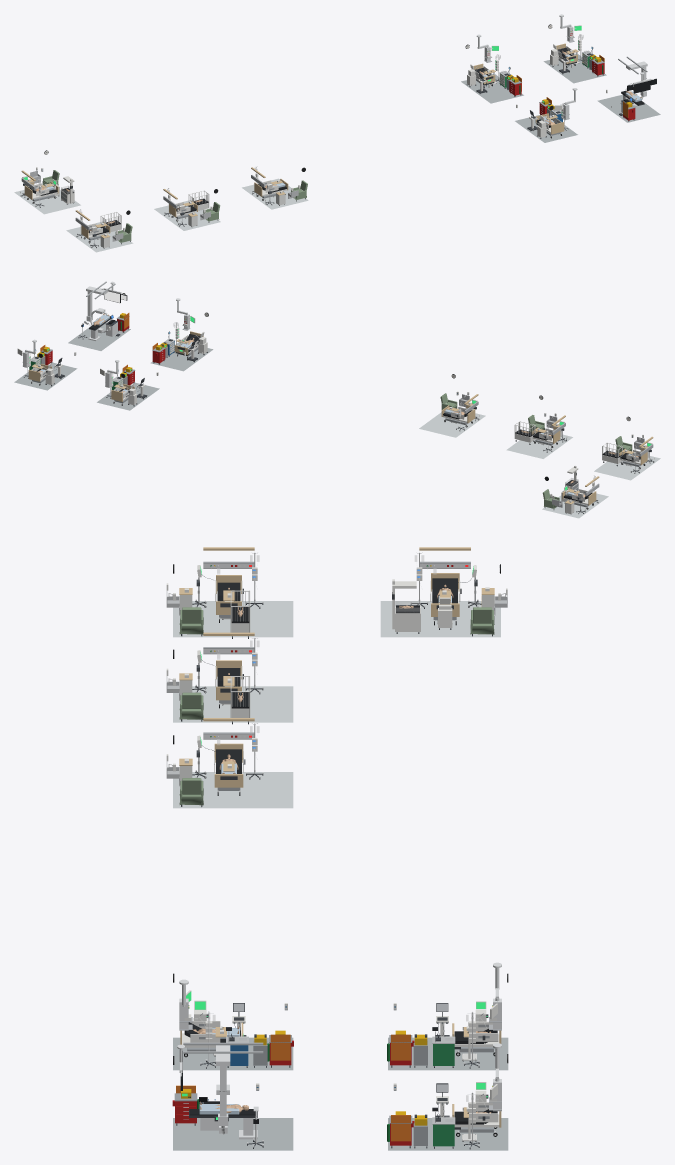
File: 19_n2_alta_fidelidad.glb
The picture shows the model from 3 angles, top to bottom: view 1: azimuth 30°, elevation 25°; view 2: azimuth 150°, elevation 25°; view 3: azimuth 270°, elevation 25°; orthographic projection. The views are drawn at different scales.
Parts seen in each view (by area): view 1: piso · Hemodinamia simulada · simulador endovascular, piso · UCI pediátrica 2, piso · UCI pediátrica 1, piso · Hospitalización · ginecoobstetricia, piso · Hospitalización · pediatría 1, piso · Hospitalización · pediatría 2, piso · Hospitalización · adultos, piso · UCI adultos, cama_hospitalaria, cama_hospitalaria.002; view 2: piso · Hospitalización · adultos, piso · Hospitalización · pediatría 1, piso · Hospitalización · pediatría 2, piso · Hemodinamia simulada · simulador endovascular, piso · UCI adultos, piso · UCI pediátrica 1, piso · UCI pediátrica 2, arco_c_techo, piso · Hospitalización · ginecoobstetricia, cama_hospitalaria.002, cama_hospitalaria; view 3: piso · Hospitalización · adultos, piso · Hemodinamia simulada · simulador endovascular, piso · Hospitalización · pediatría 2, piso · Hospitalización · pediatría 1, piso · Hospitalización · ginecoobstetricia, cama_uci_pediatrica (×2), cama_hospitalaria.001 (×2), piso · UCI pediátrica 2, piso · UCI pediátrica 1, piso · UCI adultos, arco_c_techo, cama_hospitalaria.002 (+3 smaller).
Boxes of the visible parts, x1,y1,x2,y2 form: piso · Hemodinamia simulada · simulador endovascular: (597,94,660,122); piso · UCI pediátrica 2: (543,53,606,83); piso · UCI pediátrica 1: (461,73,523,103); piso · Hospitalización · ginecoobstetricia: (14,190,80,214); piso · Hospitalización · pediatría 1: (66,221,133,252); piso · Hospitalización · pediatría 2: (154,200,220,230); piso · Hospitalización · adultos: (242,178,308,209); piso · UCI adultos: (515,115,577,142); cama_hospitalaria: (24,181,58,203); cama_hospitalaria.002: (254,178,288,200); piso · Hospitalización · adultos: (419,412,485,437); piso · Hospitalización · pediatría 1: (594,455,660,480); piso · Hospitalización · pediatría 2: (506,433,572,458); piso · Hemodinamia simulada · simulador endovascular: (68,323,130,350); piso · UCI adultos: (150,342,213,371); piso · UCI pediátrica 1: (97,382,159,410); piso · UCI pediátrica 2: (14,362,77,390); arco_c_techo: (86,281,115,333); piso · Hospitalización · ginecoobstetricia: (542,489,608,518); cama_hospitalaria.002: (441,405,475,427); cama_hospitalaria: (562,487,596,509); piso · Hospitalización · adultos: (173,772,293,808); piso · Hemodinamia simulada · simulador endovascular: (173,1118,293,1150); piso · Hospitalización · pediatría 2: (173,686,293,722); piso · Hospitalización · pediatría 1: (173,601,293,637); piso · Hospitalización · ginecoobstetricia: (380,601,500,637); cama_uci_pediatrica (×2): (452,1021,501,1136); cama_hospitalaria.001 (×2): (215,575,243,708); piso · UCI pediátrica 2: (388,1118,508,1150); piso · UCI pediátrica 1: (388,1037,508,1070); piso · UCI adultos: (173,1037,293,1070); arco_c_techo: (183,1042,263,1134); cama_hospitalaria.002: (214,743,245,795).
Size of the model in its own units: 45.45 by 3.4 by 11.93.
Materials: 44 (1 with a texture image).
